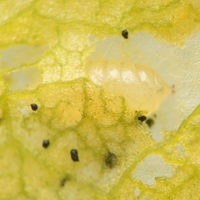insect: (122, 30, 127, 38)
